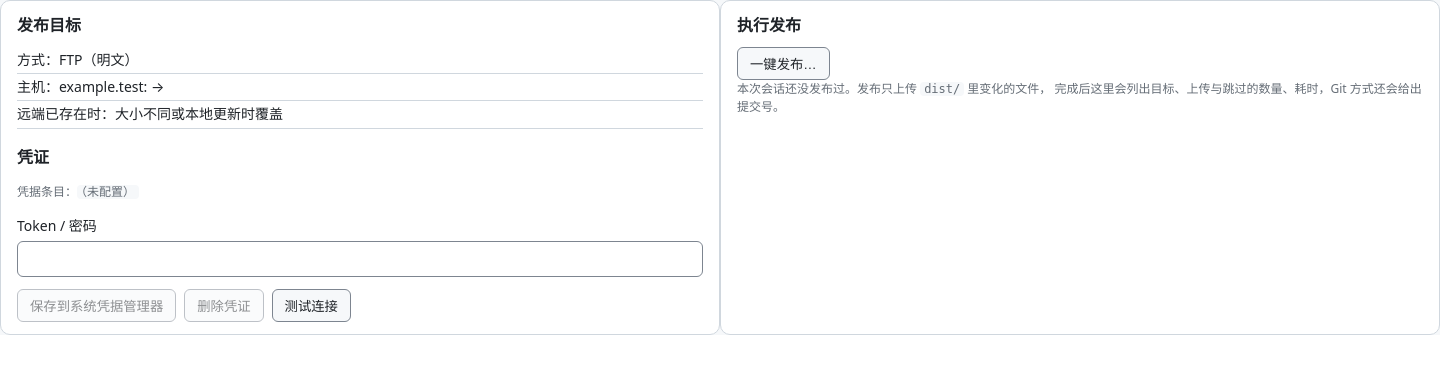
it: DeployPanel 的发布确认 › 没有要传的文件时不让确认：那一次发布什么也不会发生
Click the button "一键发布…": click(783, 63) left=737, top=47, right=830, bottom=80
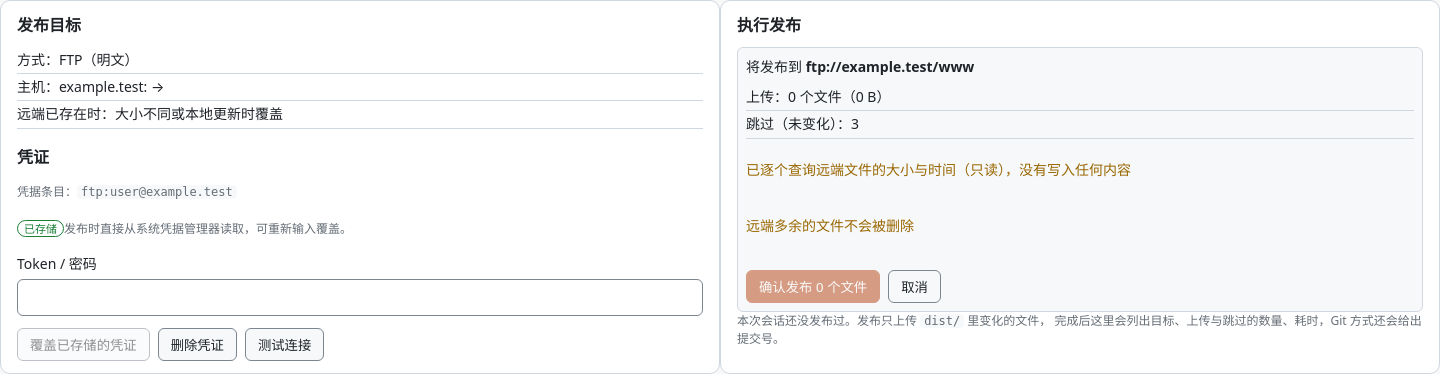
Expected: the button "确认发布 0 个文件" is disabled, left=746, top=270, right=880, bottom=302
